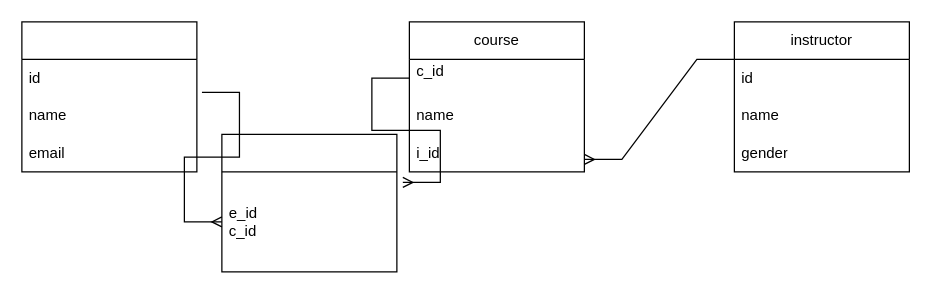
This 931x294 diagram has some shape labels left out. Each missing label, with the box of its shape:
Enrollment: (221, 133, 397, 272)
student: (21, 21, 197, 172)
